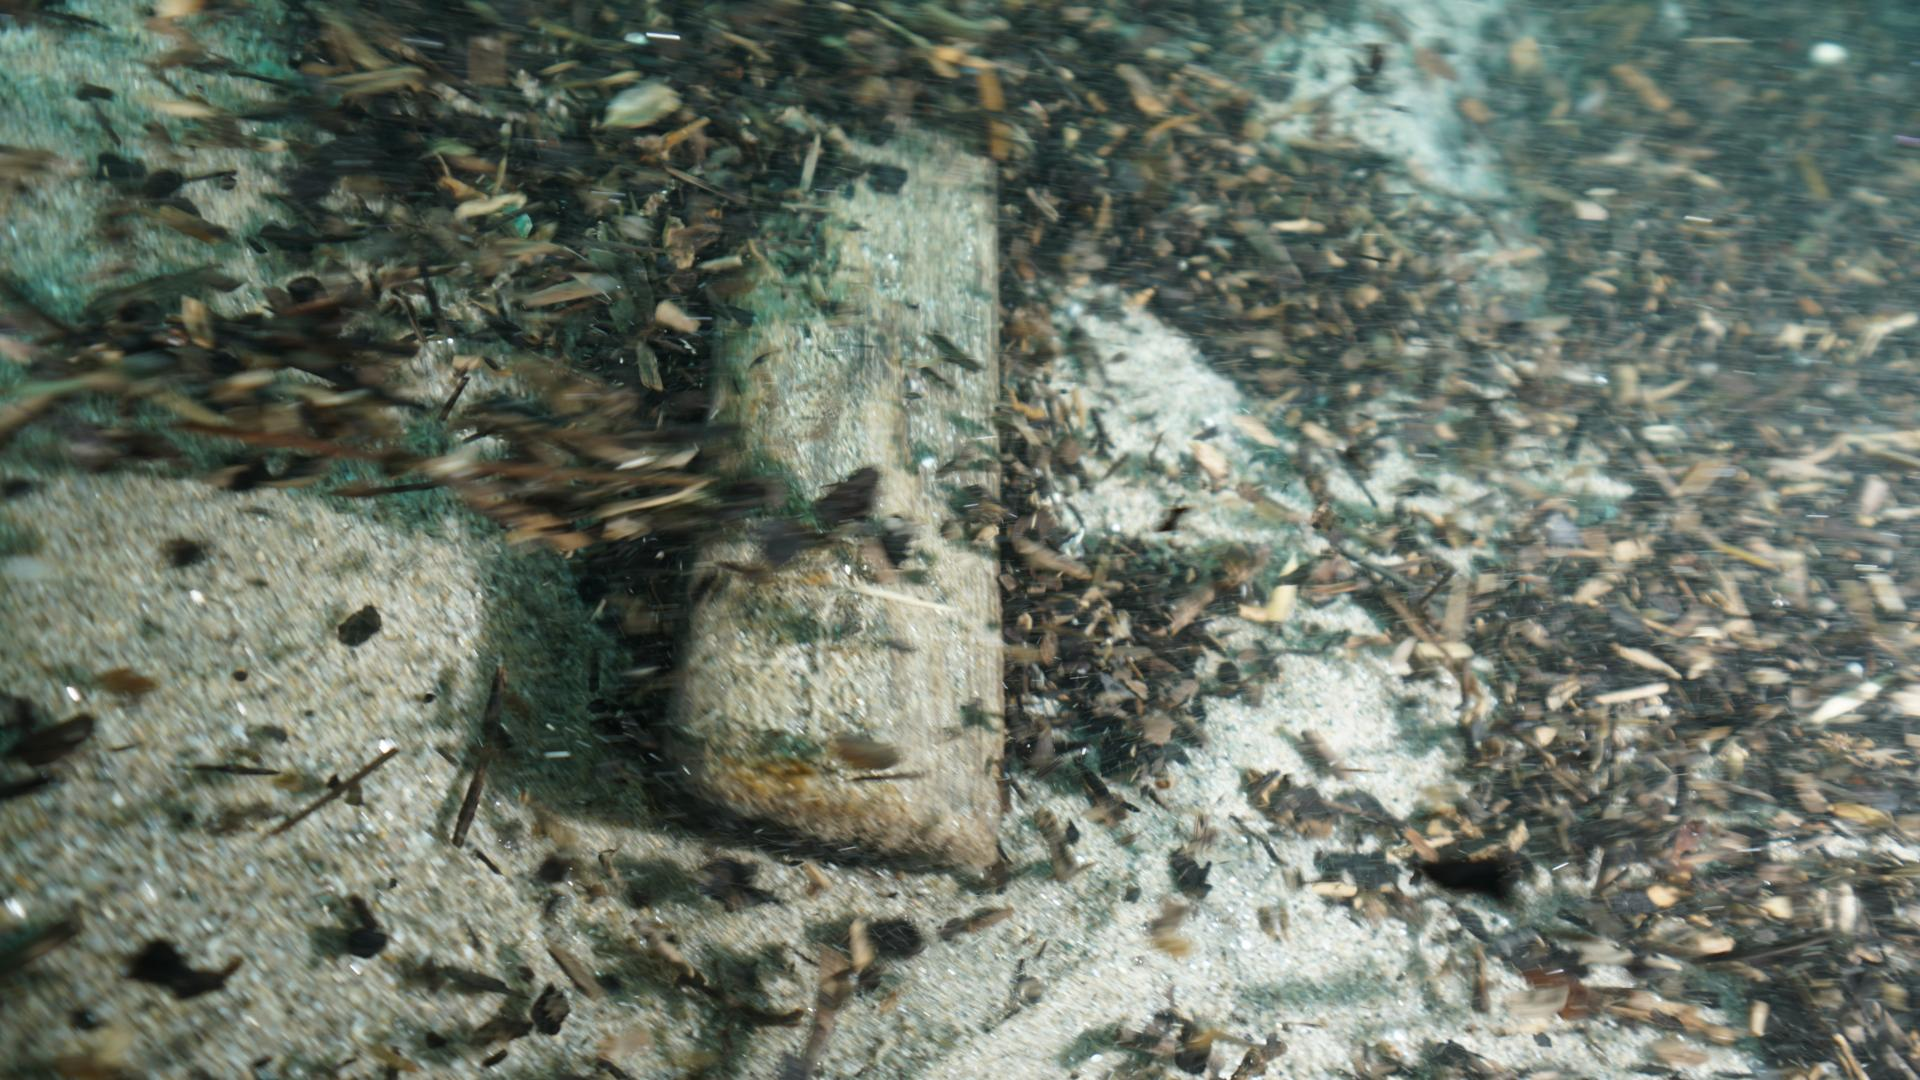wood: (659, 102, 1011, 886)
